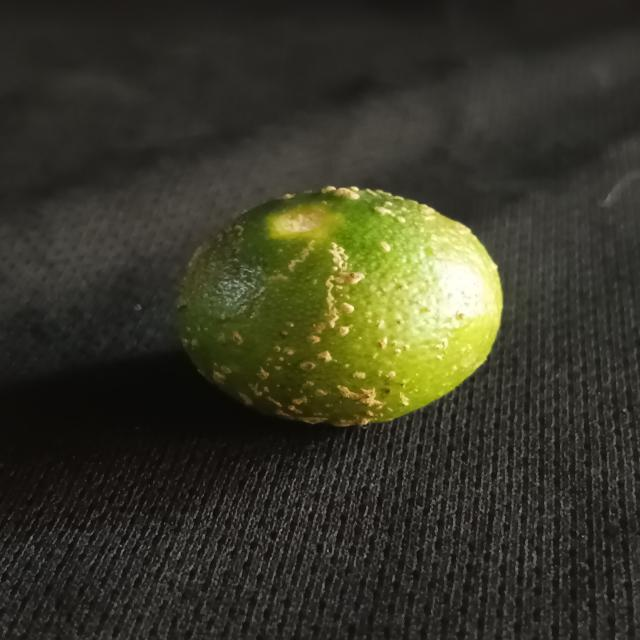scab: (177, 182, 508, 428)
